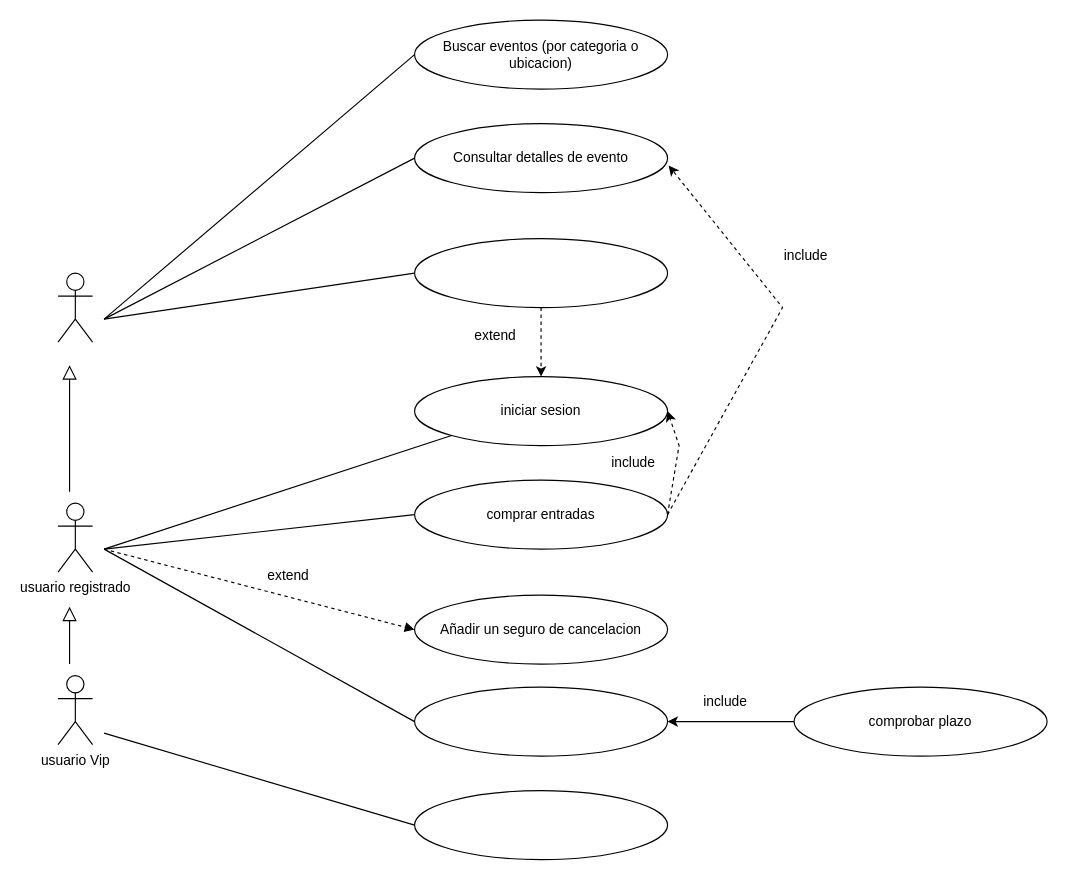
The diagram is 1067 pixels wide and 880 high, and some of its shapes have lost their labels. The shapes that lost their labels are listed below. From the top down, each one's box as (x1, y1, x2, y2) in pixels, then its label:
(413, 237, 668, 308): registrarse
(57, 272, 93, 342): usuario
(413, 686, 668, 756): cancelar una entrada si aun esta dentro del plazo
(413, 789, 668, 860): aplicar descuento vip
